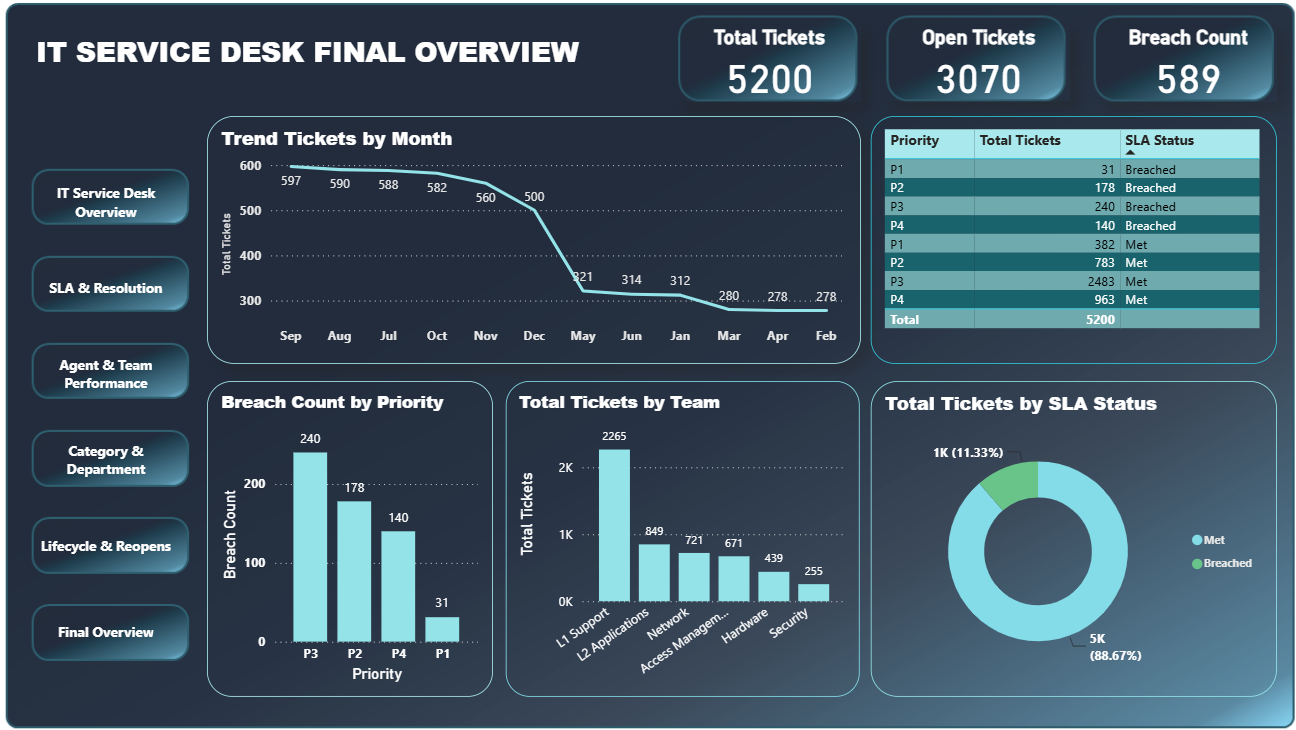

The dashboard page shown, as its layout file describes it:
{"tool":"powerbi","page":{"name":"Final Overview","canvas":[1280,720],"ordinal":5},"visuals":[{"type":"card","title":"Total Tickets","fields":{"Values":["Tickets.Total Tickets"]},"box":[671.4,33.3,176.2,73.8],"z":0},{"type":"card","title":"Open Tickets","fields":{"Values":["Tickets.Open Tickets"]},"box":[875,33.3,175,72.6],"z":1000},{"type":"card","title":"Breach Count","fields":{"Values":["Measure Table.Breach Count"]},"box":[1078.6,33.3,171.4,73.8],"z":2000},{"type":"lineChart","title":"Trend Tickets by Month","fields":{"Category":["Date Table.Month"],"Y":["Measure Table.Total Tickets"]},"box":[216.7,120.2,631,239.3],"z":3000},{"type":"columnChart","fields":{"Category":["Tickets.Priority"],"Y":["Measure Table.Breach Count"]},"box":[216.7,376.2,276.2,304.8],"z":4000},{"type":"tableEx","fields":{"Values":["Tickets.Priority","Measure Table.Total Tickets","Tickets.SLA Status"]},"box":[858.3,120.2,391.7,239.3],"z":5000},{"type":"donutChart","fields":{"Category":["Tickets.SLA Status"],"Y":["Measure Table.Total Tickets"]},"box":[858.3,376.2,391.7,304.8],"z":6000},{"type":"pageNavigator","box":[47.6,166.7,145.2,489.3],"z":7000},{"type":"textbox","box":[47.6,33.3,584.5,67.9],"z":8000},{"type":"columnChart","fields":{"Category":["Agents.Team"],"Y":["Measure Table.Total Tickets"]},"box":[506,376.2,341.7,304.8],"z":9000}]}

Visuals, with their boxes in screenshot pixels (x1, y1, x2, y2), scaled from the page's 1280x720 canvas onto the 1296x730 screenshot:
"Total Tickets" card: 680, 34, 858, 109
"Open Tickets" card: 886, 34, 1063, 107
"Breach Count" card: 1092, 34, 1266, 109
"Trend Tickets by Month" lineChart: 219, 122, 858, 364
columnChart - Tickets.Priority x Measure Table.Breach Count: 219, 381, 499, 690
tableEx - Tickets.Priority x Measure Table.Total Tickets: 869, 122, 1266, 364
donutChart - Tickets.SLA Status x Measure Table.Total Tickets: 869, 381, 1266, 690
pageNavigator: 48, 169, 195, 665
textbox: 48, 34, 640, 103
columnChart - Agents.Team x Measure Table.Total Tickets: 512, 381, 858, 690
